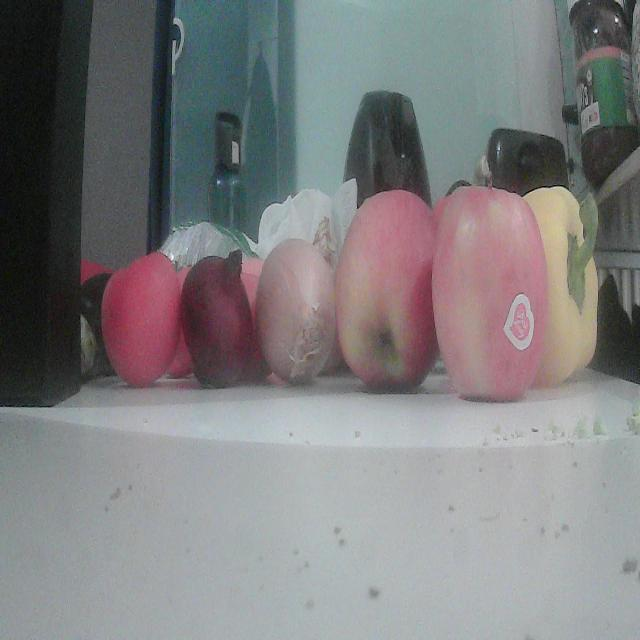Apple: (432, 188, 548, 401), (335, 190, 438, 389)
Bell Pepper: (523, 186, 598, 386)
Onion: (256, 239, 335, 384), (181, 251, 256, 388)
Tomato: (102, 252, 181, 387)
